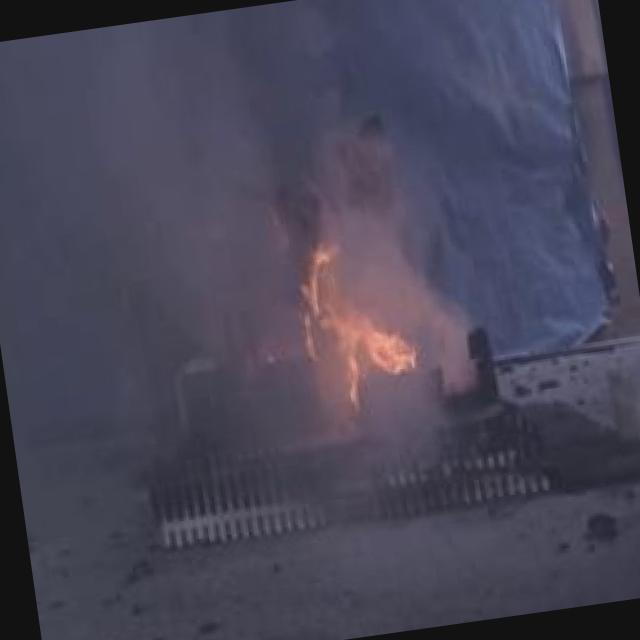fire: (288, 210, 429, 400)
